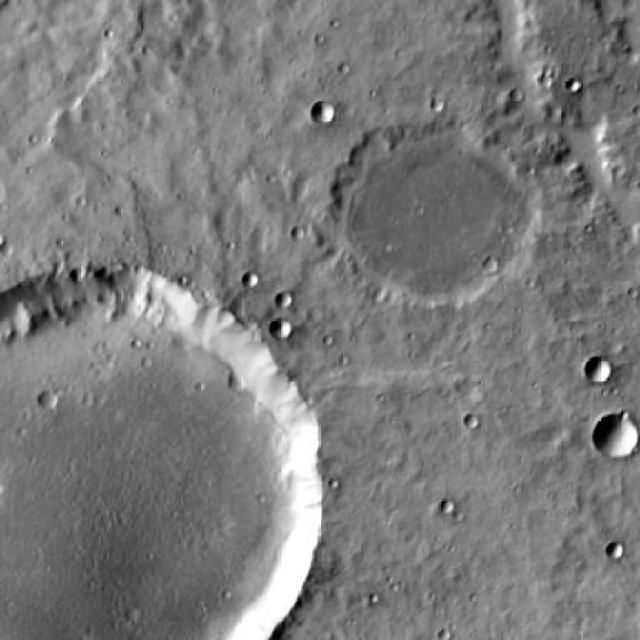crater: (0, 278, 349, 640), (331, 118, 535, 314), (594, 413, 640, 462), (584, 359, 613, 386), (270, 318, 293, 340), (310, 100, 332, 122), (38, 388, 58, 408), (605, 542, 623, 560), (274, 292, 292, 308)
